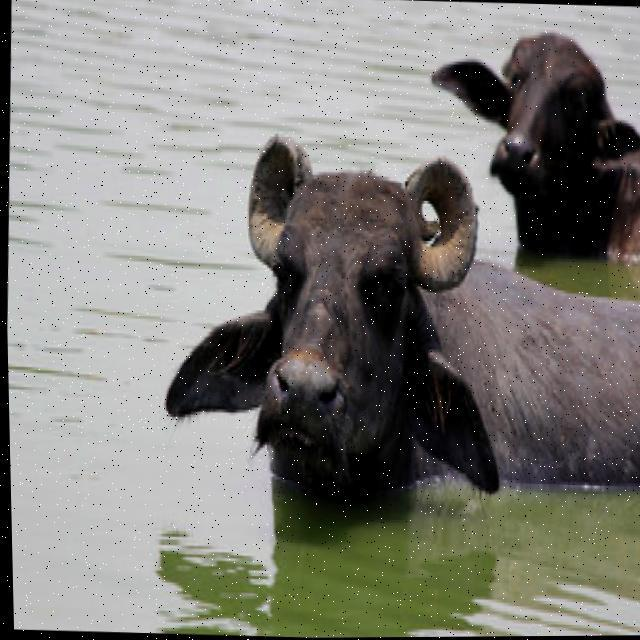Buffalo: (160, 127, 640, 484)
